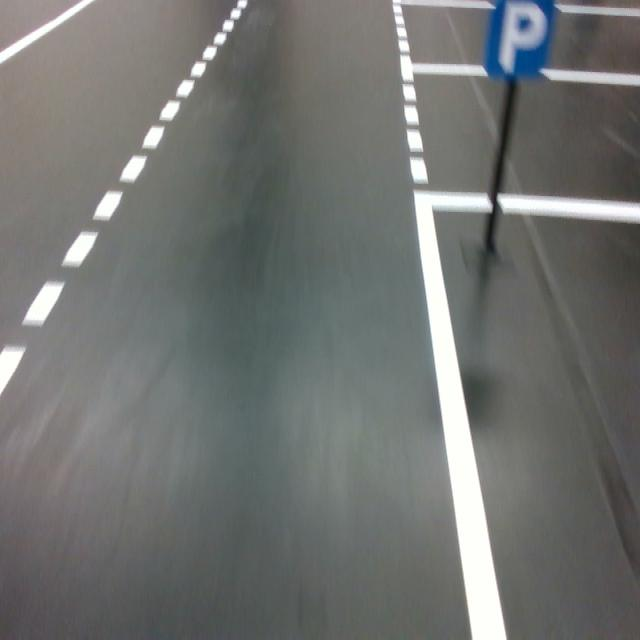parking-sign: (483, 0, 554, 79)
